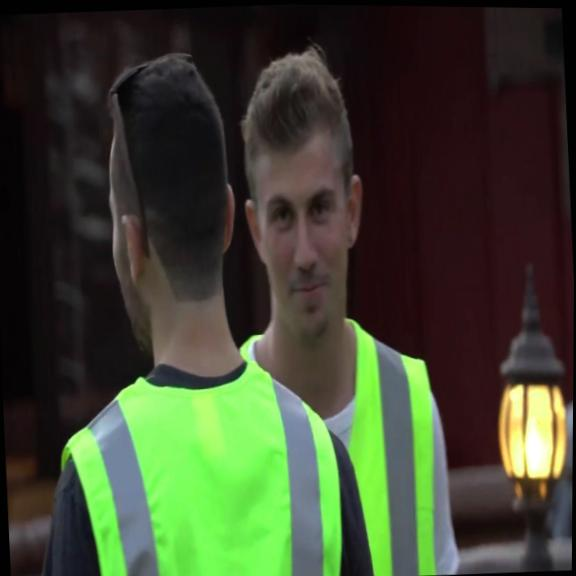safety_vest: (51, 364, 345, 576), (231, 303, 440, 576)
